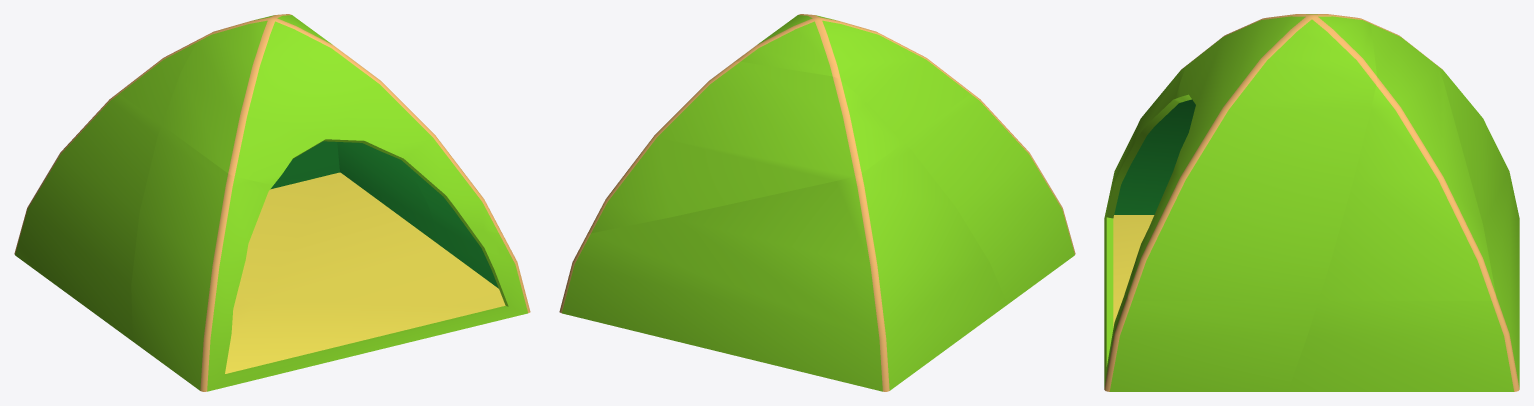
The model's file is Tent_cut.fbx.
3 renders of one model, left to right at view 1: azimuth 30°, elevation 25°; view 2: azimuth 150°, elevation 25°; view 3: azimuth 270°, elevation 25°, orthographic. The views are drawn at different scales.
Parts seen in each view (by area): view 1: Tent_cut00, Tent_cut01, Tent_cut03, Tent_cut02; view 2: Tent_cut01, Tent_cut02, Tent_cut00, Tent_cut03; view 3: Tent_cut03, Tent_cut02, Tent_cut00, Tent_cut01.
Part boxes in pixels (box(x1,y1,x2,y2)): Tent_cut00: box(131, 125, 530, 391); Tent_cut01: box(14, 93, 443, 341); Tent_cut03: box(162, 14, 501, 233); Tent_cut02: box(118, 39, 409, 168); Tent_cut01: box(559, 142, 1007, 391); Tent_cut02: box(588, 61, 903, 233); Tent_cut00: box(904, 93, 1075, 304); Tent_cut03: box(733, 14, 971, 142); Tent_cut03: box(1127, 14, 1376, 300); Tent_cut02: box(1318, 22, 1496, 300); Tent_cut00: box(1104, 64, 1318, 391); Tent_cut01: box(1288, 64, 1519, 391).
Size of the model in its own units: 65.36 by 50.07 by 65.36.
